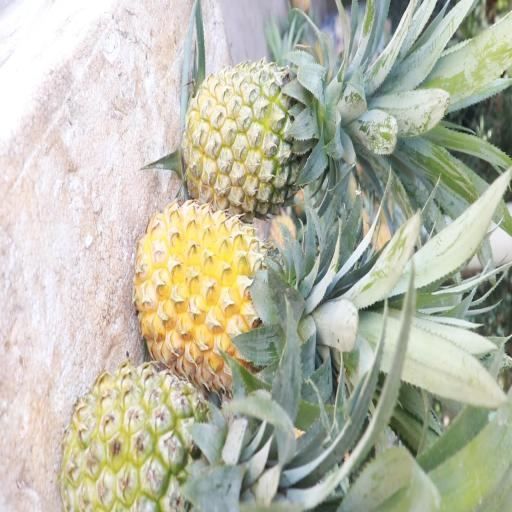------------------------------: (63, 362, 242, 512), (185, 57, 337, 207)
Pineapple - v8 v1: (139, 201, 311, 378)
